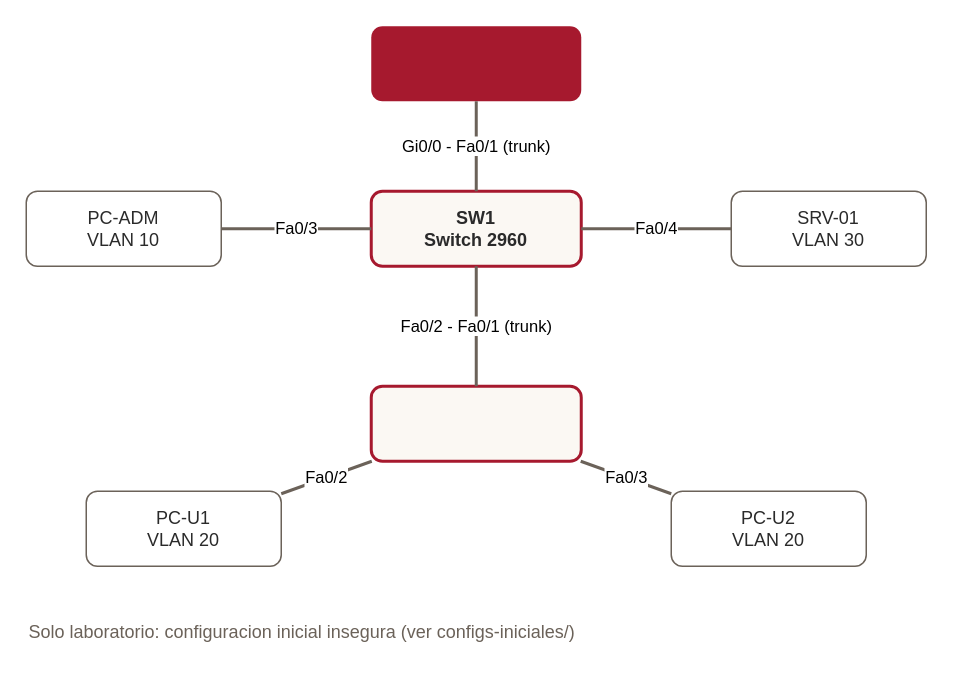
The diagram is 953 pixels wide and 681 high, and some of its shapes have lost their labels. The centre of each missing label's shape, as x and y in pixels:
R1 Router 2911 Gi0/0 (trunk): pixel 475 63
SW2 Switch 2960: pixel 475 423
